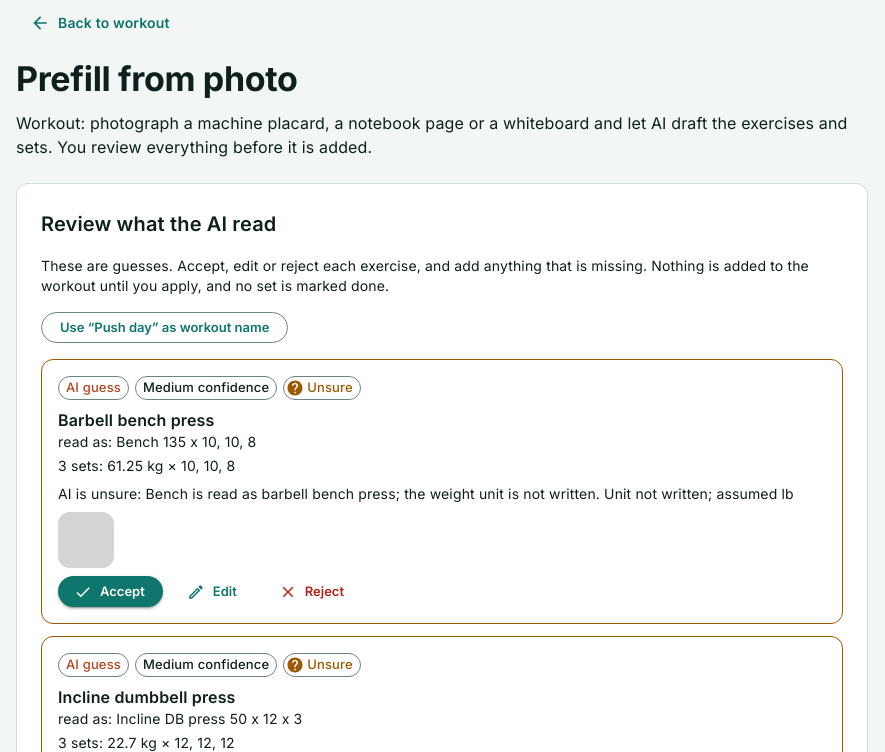
Test: WorkoutPrefillPage › sets the suggested name only on click
Click the button "Use “Push day” as workout name": (165, 328) [41,312,288,343]
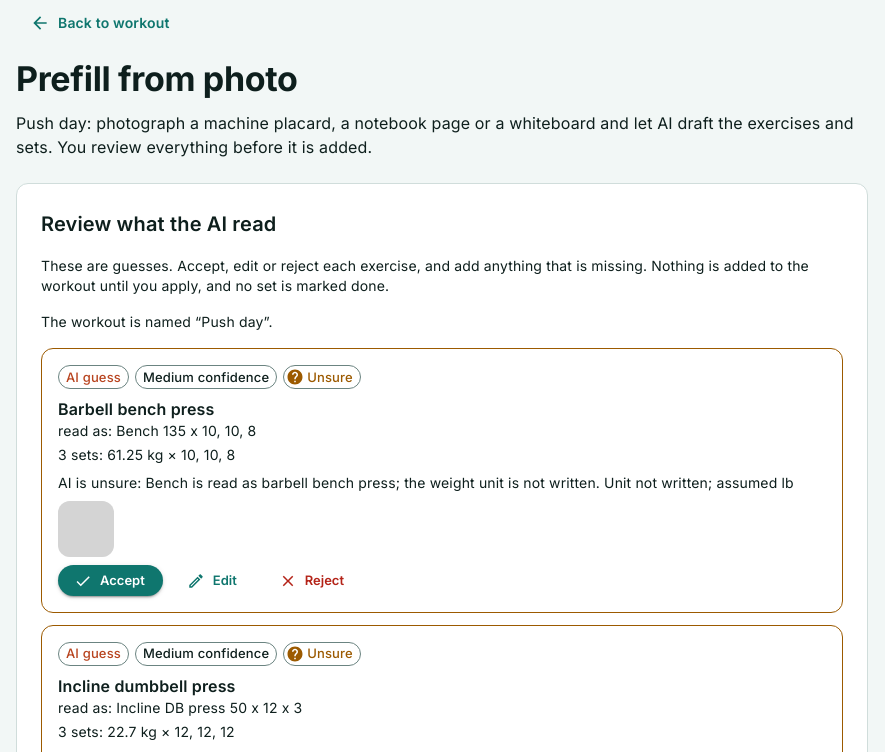
expect the text "The workout is named “Push day”." is shown: met, box [41,313,273,330]
